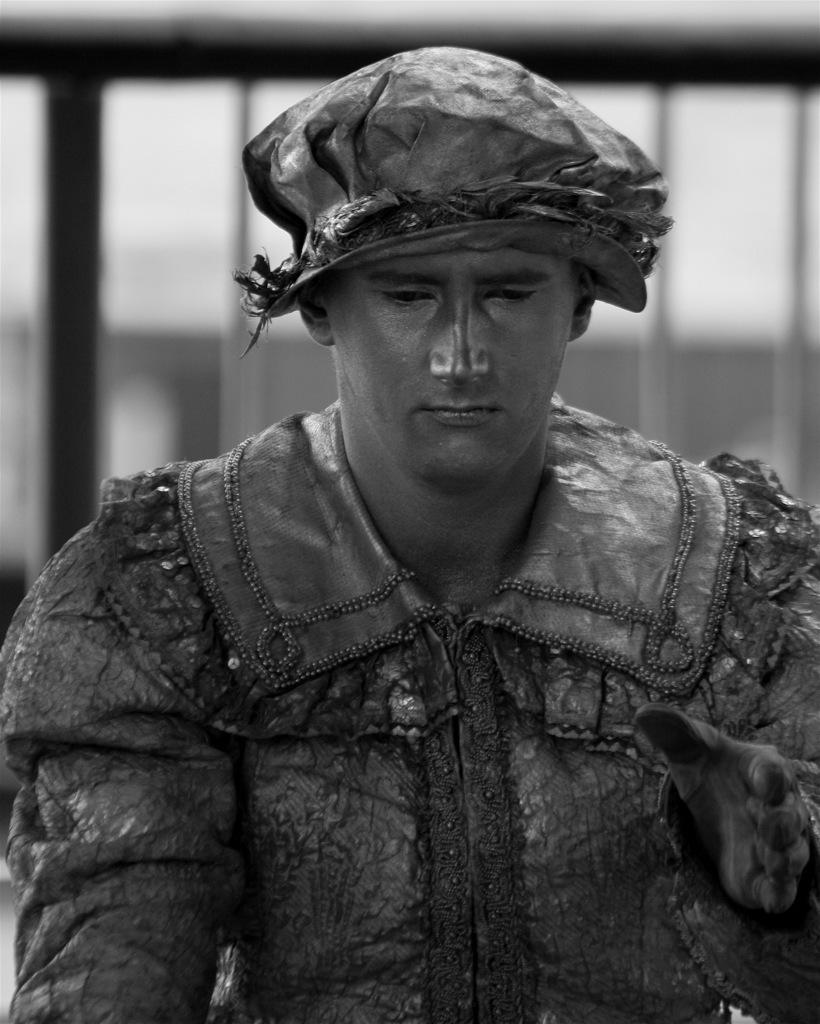Hat: (239, 42, 675, 344)
